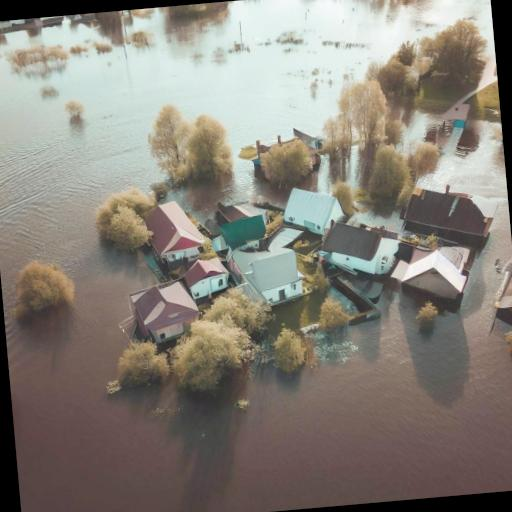flood: (0, 0, 512, 512), (399, 90, 465, 152), (301, 149, 362, 193), (347, 206, 404, 233), (328, 286, 359, 316)
house: (399, 180, 504, 248), (322, 213, 402, 279), (130, 276, 201, 350), (396, 242, 478, 306), (148, 196, 212, 274), (248, 122, 328, 184), (236, 242, 310, 308), (281, 184, 343, 238), (211, 197, 268, 247), (182, 254, 230, 302), (488, 258, 512, 326), (36, 16, 64, 28)
